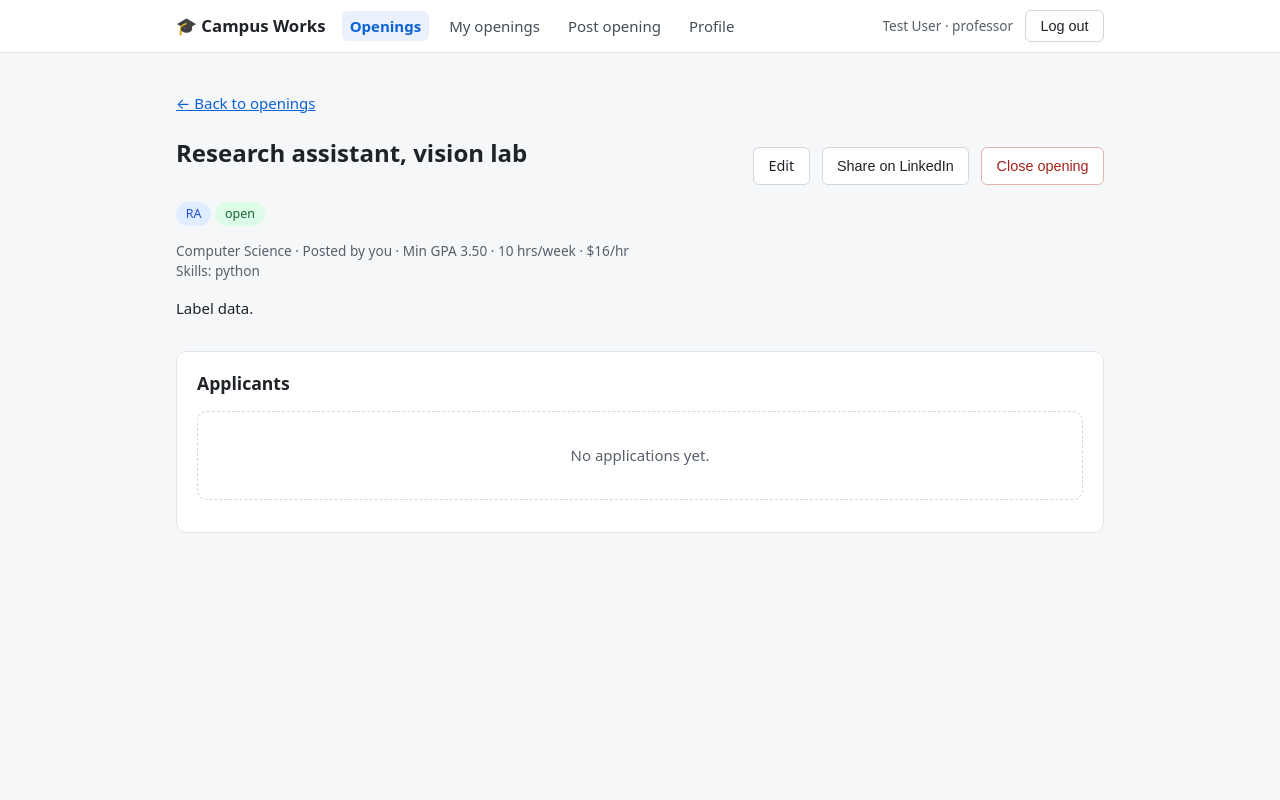
Test: share without a LinkedIn login shows the conflict message
This screenshot has width=1280, height=800.
Expected: the text "No applications yet." is shown, x1=197 y1=411 x2=1083 y2=500
Click the button "Share on LinkedIn". click: (895, 166)
box: x1=822 y1=147 x2=969 y2=185
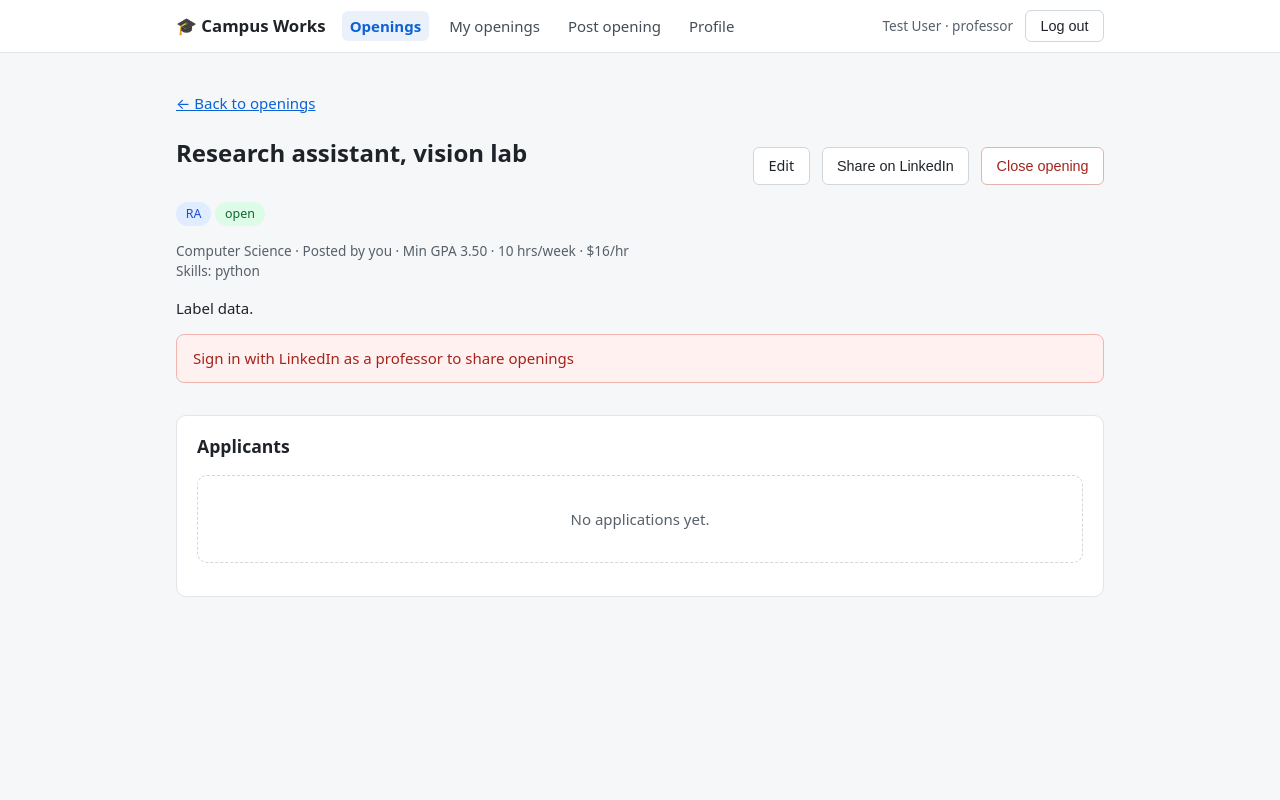
Now the message reads "Sign in with LinkedIn as a professor to share openings", box x1=193 y1=348 x2=574 y2=368
